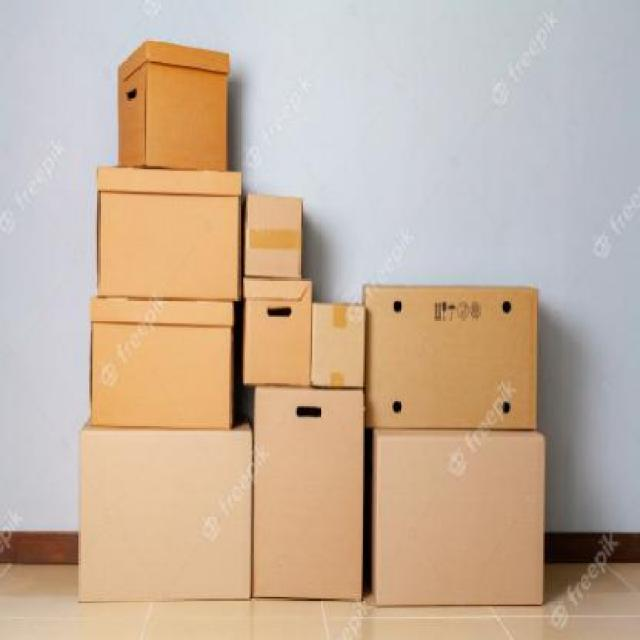box: (360, 428, 549, 609), (78, 421, 249, 602), (356, 277, 540, 435), (245, 385, 367, 611), (85, 294, 235, 430), (94, 161, 241, 299), (113, 34, 234, 174), (240, 277, 317, 389), (242, 192, 298, 280), (311, 291, 361, 385)
